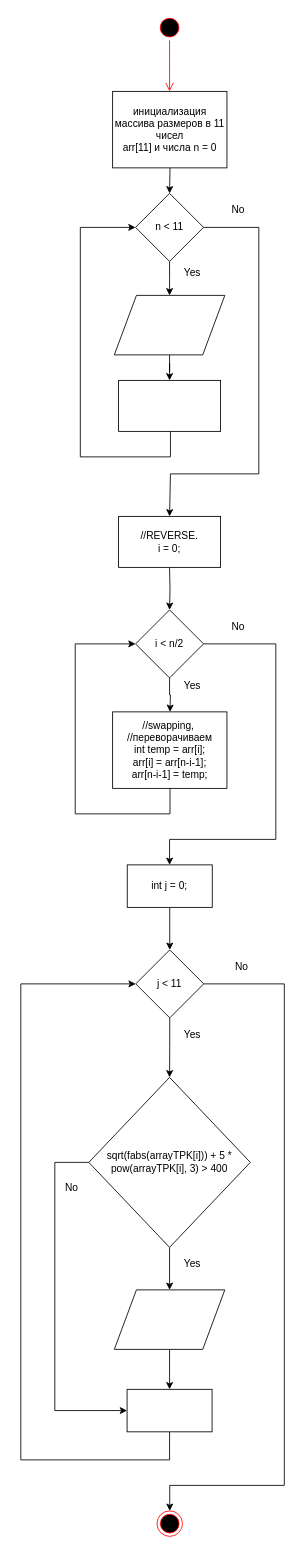
Some shapes in this 306 by 1551 pixel diagram are drawn without their labels. The centre of each missing label's shape, as x and y in pixels:
j++;: [169,1410]
вывод оповещения пользователю: [169,1319]
вывод текста для ввода в консоль: [169,325]
чтение ввода и запись в массив arr[n]: [169,405]
